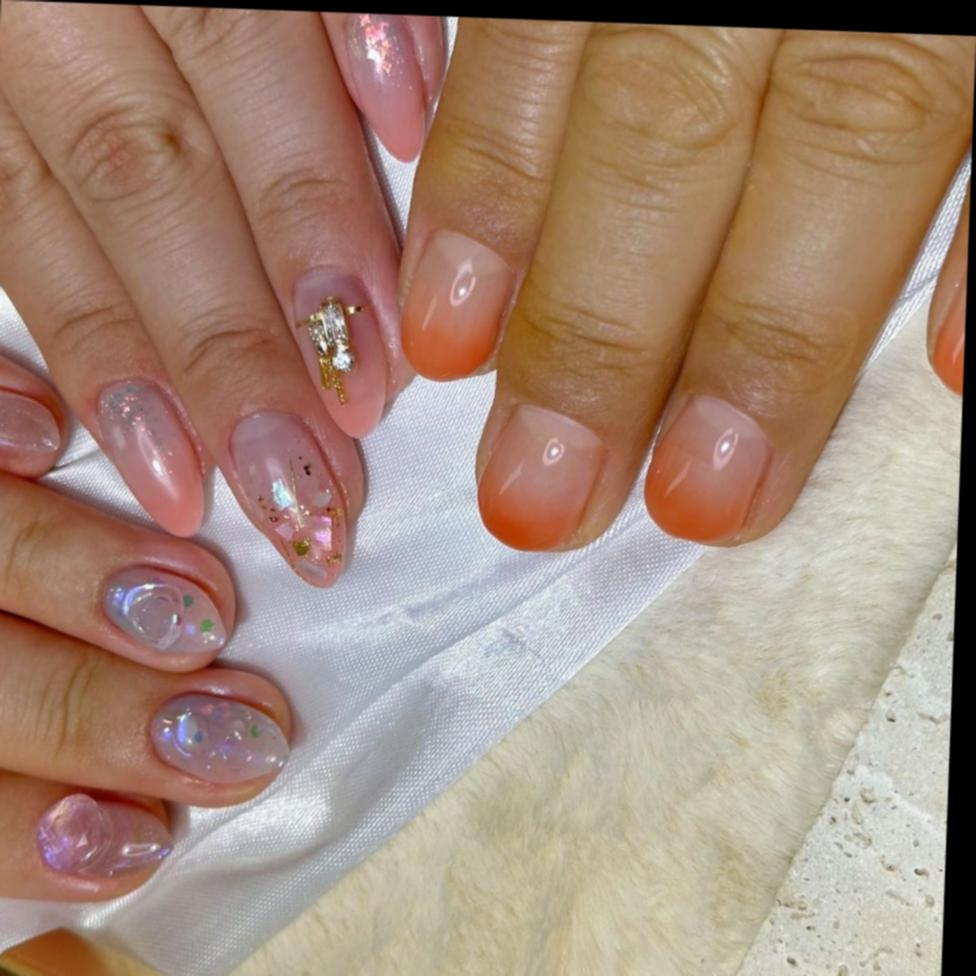nail: (218, 406, 353, 589), (640, 389, 774, 548), (471, 399, 606, 555), (86, 375, 209, 539), (396, 224, 516, 383), (284, 265, 393, 439), (332, 12, 432, 163), (143, 688, 291, 789), (94, 561, 229, 659), (0, 384, 65, 477)
